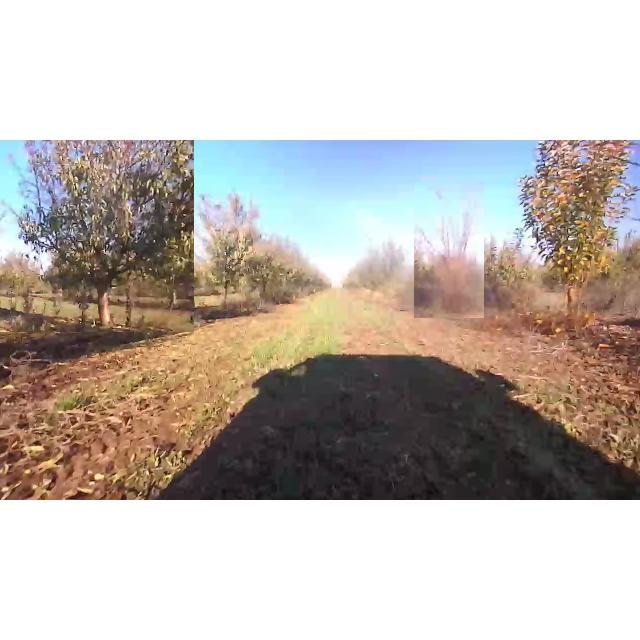direk: (0, 140, 194, 332), (509, 143, 638, 327), (414, 182, 484, 318), (189, 192, 261, 312), (240, 222, 300, 306)
